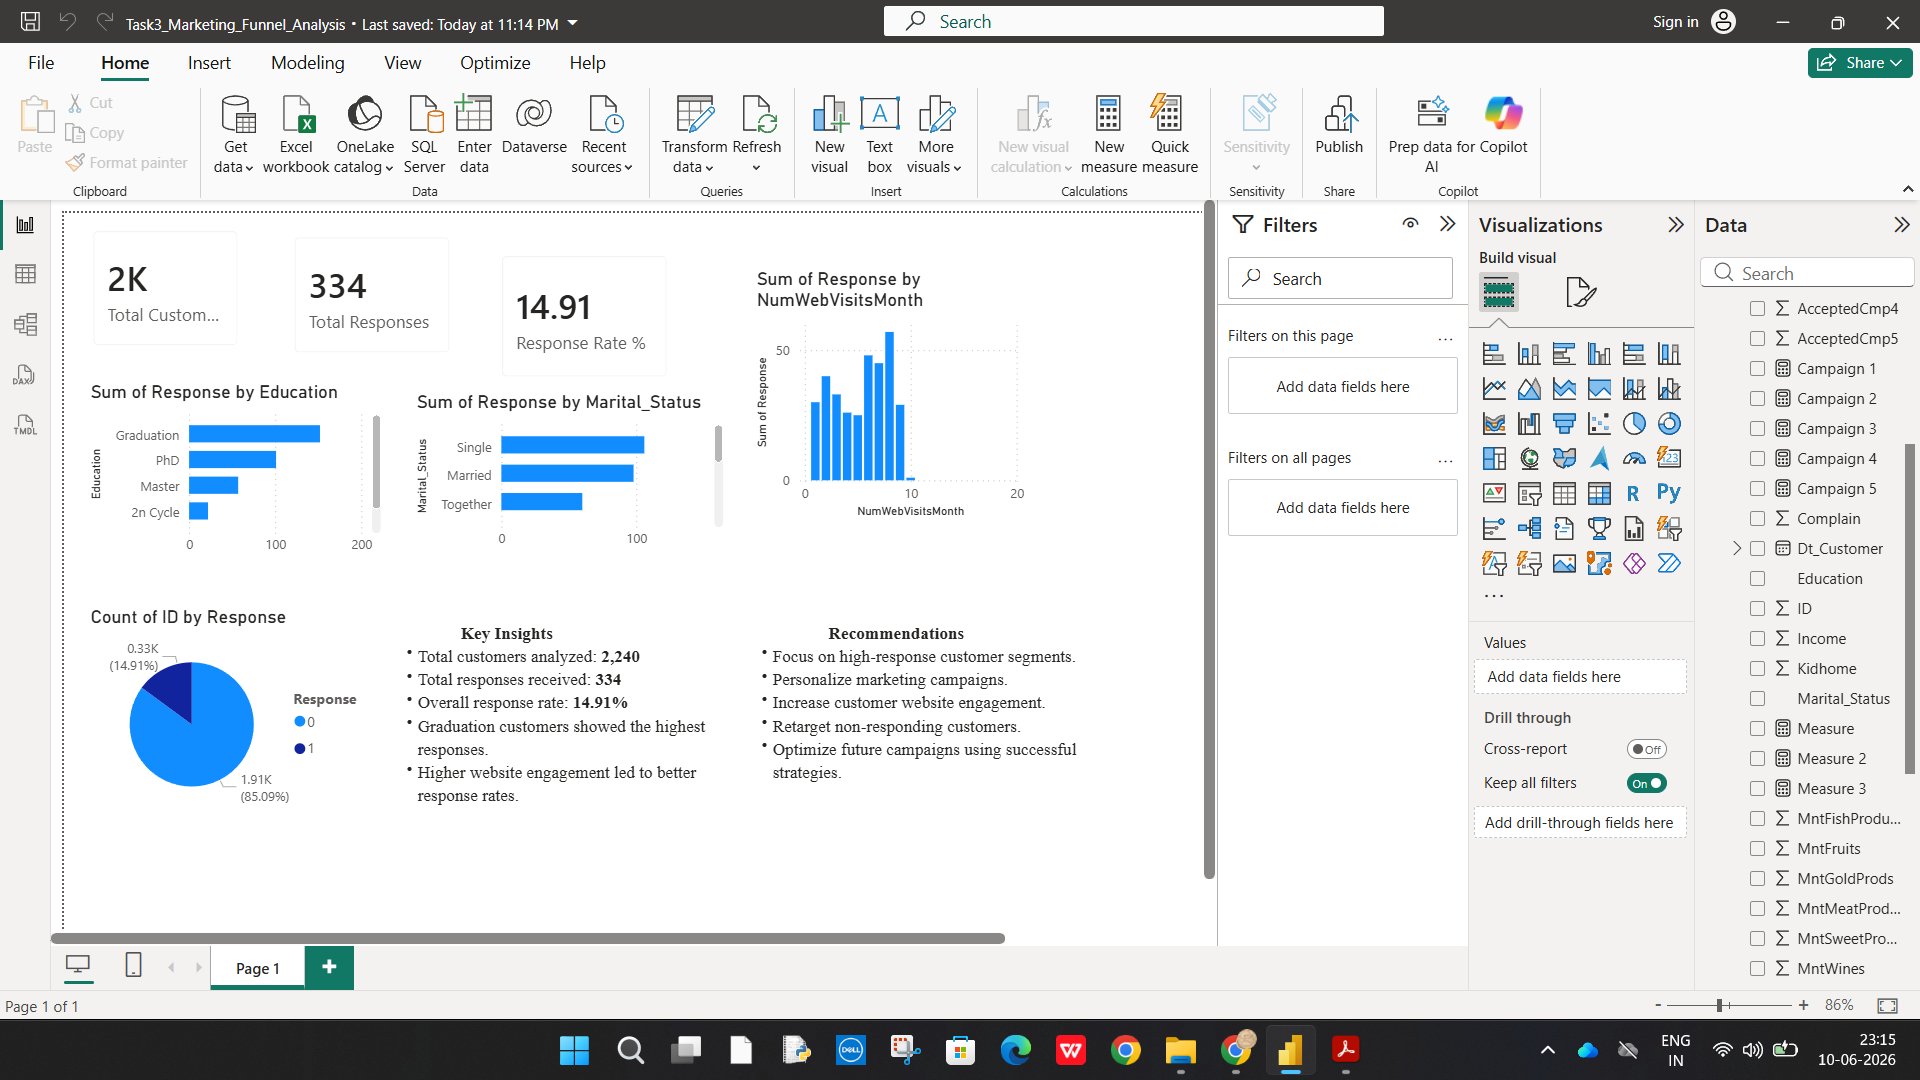

This screenshot's page, from the dashboard's own definition file:
{"tool":"powerbi","page":{"name":"Page 1","canvas":[1280,720],"ordinal":0},"visuals":[{"type":"cardVisual","fields":{"Data":["marketing_campaign_cleans.Total Customers"]},"box":[10,0,168.8,140],"z":0},{"type":"cardVisual","fields":{"Data":["marketing_campaign_cleans.Total Responses"]},"box":[197.5,6.2,178.8,141.2],"z":1000},{"type":"cardVisual","fields":{"Data":["marketing_campaign_cleans.Response Rate %"]},"box":[391.2,23.8,187.5,146.2],"z":2000},{"type":"clusteredBarChart","fields":{"Category":["marketing_campaign_cleans.Education"],"Y":["Sum(marketing_campaign_cleans.Response)"]},"box":[20,156.2,280,171.2],"z":3000},{"type":"clusteredBarChart","fields":{"Category":["marketing_campaign_cleans.Marital_Status"],"Y":["Sum(marketing_campaign_cleans.Response)"]},"box":[323.8,165,295,156.2],"z":4000},{"type":"clusteredColumnChart","fields":{"Category":["marketing_campaign_cleans.NumWebVisitsMonth"],"Y":["Sum(marketing_campaign_cleans.Response)"]},"box":[640,51.2,258.8,237.5],"z":5000},{"type":"pieChart","fields":{"Category":["marketing_campaign_cleans.Response"],"Y":["CountNonNull(marketing_campaign_cleans.ID)"]},"box":[20,365,277.5,202.5],"z":6000},{"type":"textbox","box":[300,376.2,340,233.8],"z":6001},{"type":"textbox","box":[630,376.2,321.2,251.2],"z":6002}]}

Visuals, with their boxes on the page's 1280x720 design canvas (x1, y1, x2, y2). These are canvas units, not pixel positions in the 1920x1080 screenshot, which may show the page scaled, cropped or inside an application window:
cardVisual - marketing_campaign_cleans.Total Customers: 10 0 179 140
cardVisual - marketing_campaign_cleans.Total Responses: 198 6 376 147
cardVisual - marketing_campaign_cleans.Response Rate %: 391 24 579 170
clusteredBarChart - marketing_campaign_cleans.Education x Sum(marketing_campaign_cleans.Response): 20 156 300 327
clusteredBarChart - marketing_campaign_cleans.Marital_Status x Sum(marketing_campaign_cleans.Response): 324 165 619 321
clusteredColumnChart - marketing_campaign_cleans.NumWebVisitsMonth x Sum(marketing_campaign_cleans.Response): 640 51 899 289
pieChart - marketing_campaign_cleans.Response x CountNonNull(marketing_campaign_cleans.ID): 20 365 298 568
textbox: 300 376 640 610
textbox: 630 376 951 627
